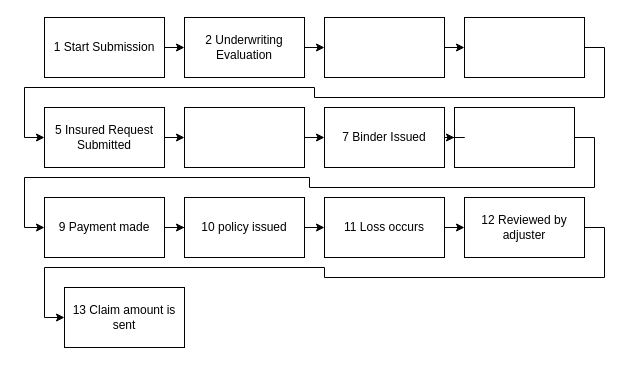
Some shapes in this 630 by 365 pixel diagram are drawn without their labels. Here are the shapes that lost their labels. From the top down, the centre of each, then its label:
At [384,47]: "3 Generate Quote".
At [524,47]: "4 Send quote to broker".
At [244,137]: "6 Bind Request Submitted".
At [514,137]: "8 Invoice sent to broker".
